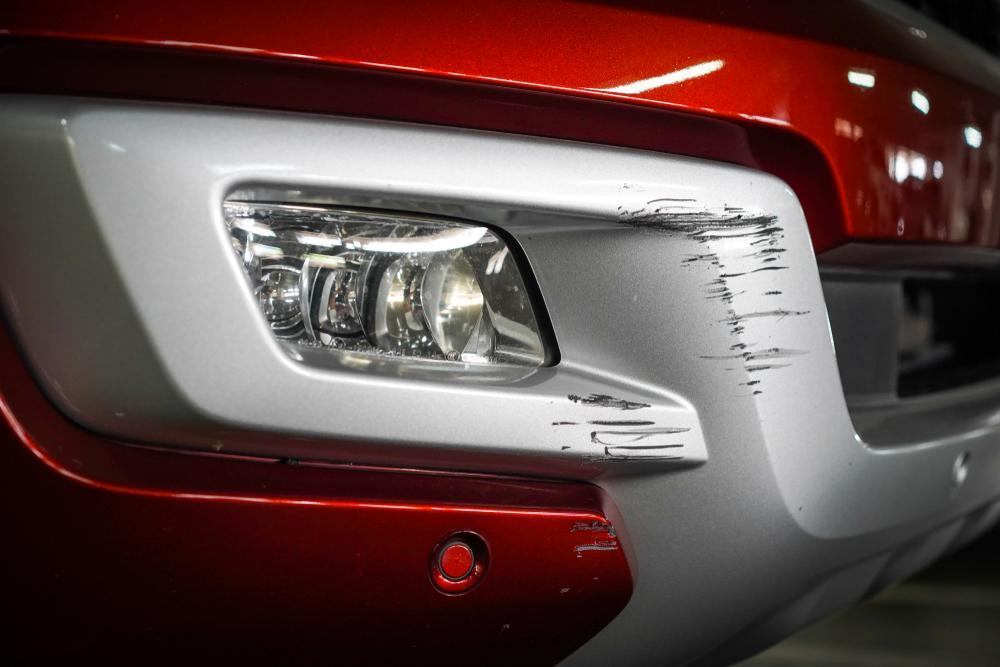scratch: (607, 190, 811, 397), (545, 388, 684, 465), (567, 510, 623, 561)
